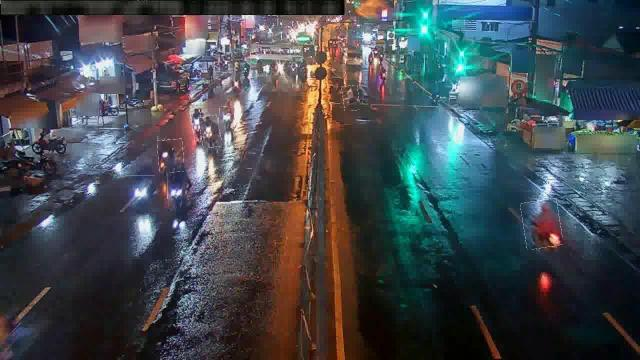Bike: (522, 199, 562, 249), (125, 176, 155, 214), (168, 161, 192, 207), (158, 140, 184, 172), (200, 116, 220, 148), (342, 85, 360, 111), (192, 108, 204, 142), (219, 108, 235, 128)
